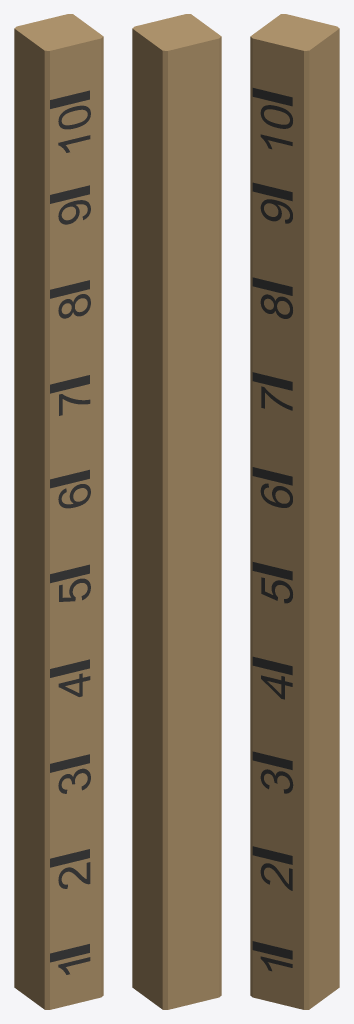
Rendered from mathRuler.fbx.
3 views of the same model, side by side, from view 1: azimuth 30°, elevation 25°; view 2: azimuth 210°, elevation 25°; view 3: azimuth 330°, elevation 25° (orthographic).
Visible parts, largest first — view 1: mathRuler; view 2: mathRuler; view 3: mathRuler.
Part boxes in pixels (box(x1,y1,x2,y2)): mathRuler: box(14, 14, 103, 1009); mathRuler: box(132, 14, 221, 1009); mathRuler: box(250, 14, 339, 1009).
Bounding box in the file's own units: 6.49 × 101 × 6.41.
